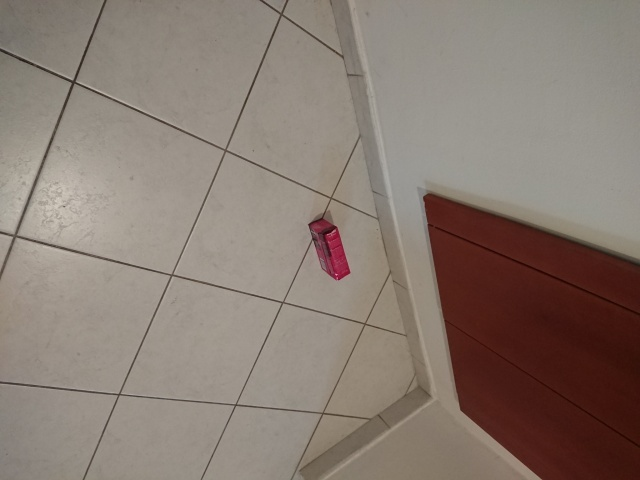Barcaffe Classic Original 225g: (307, 217, 353, 282)
